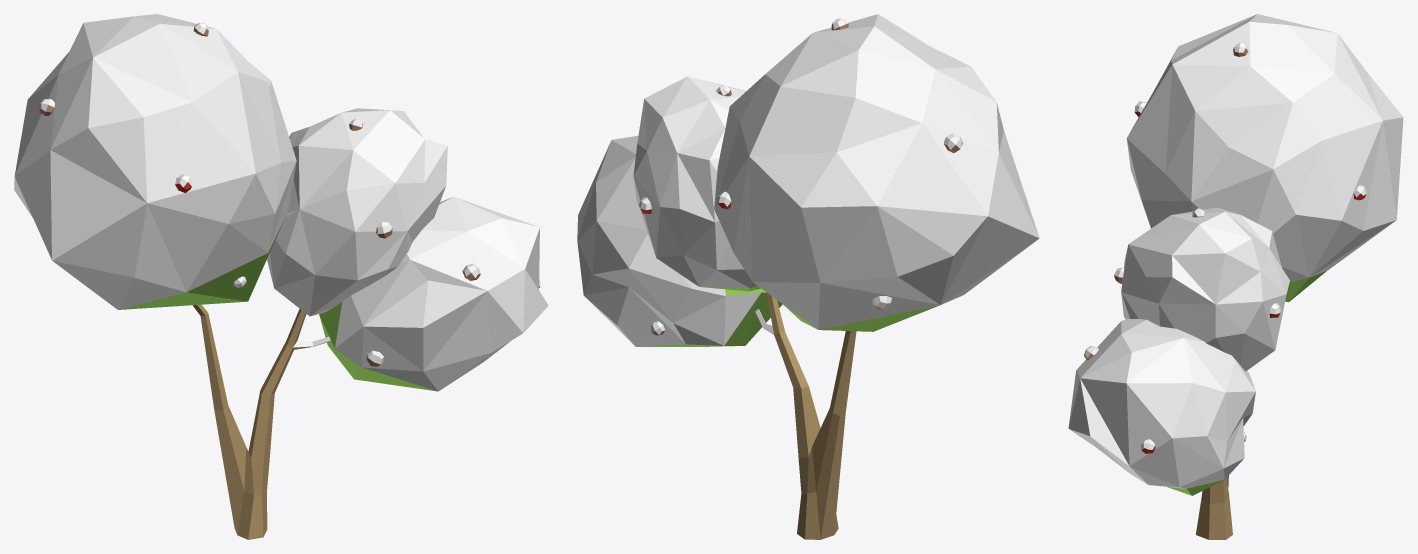
File: Apple_Tree_Apples_m_Snow_08_LOD.fbx
3 views of the same model, side by side, from view 1: azimuth 30°, elevation 25°; view 2: azimuth 150°, elevation 25°; view 3: azimuth 270°, elevation 25° (orthographic). The views are drawn at different scales.
Visible parts, largest first — view 1: Apple_Tree_Apples_m_Snow_08_LOD0; view 2: Apple_Tree_Apples_m_Snow_08_LOD0; view 3: Apple_Tree_Apples_m_Snow_08_LOD0.
Boxes of the visible parts, x1,y1,x2,y2 form: Apple_Tree_Apples_m_Snow_08_LOD0: (14,14,548,539); Apple_Tree_Apples_m_Snow_08_LOD0: (577,14,1039,539); Apple_Tree_Apples_m_Snow_08_LOD0: (1068,14,1403,539).
Size of what is drawn, in the model's own units: 795 by 846 by 536.
